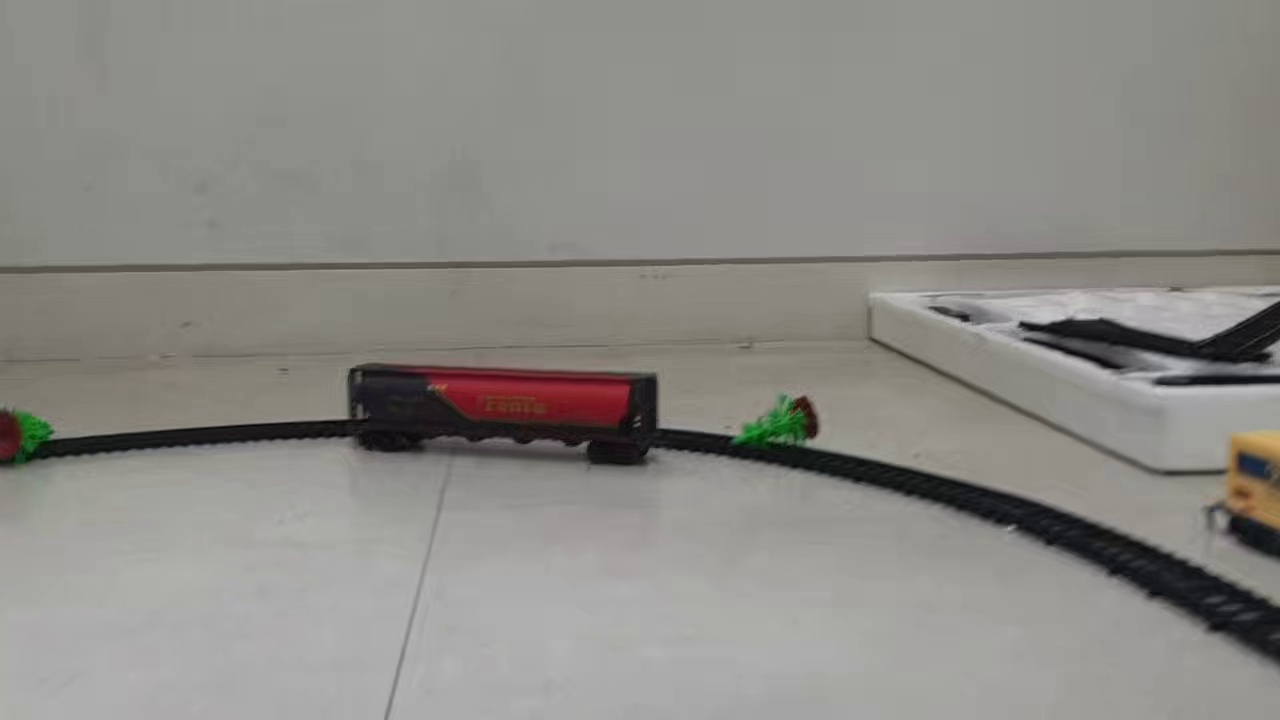tree: (727, 394, 821, 450), (1, 406, 56, 464)
